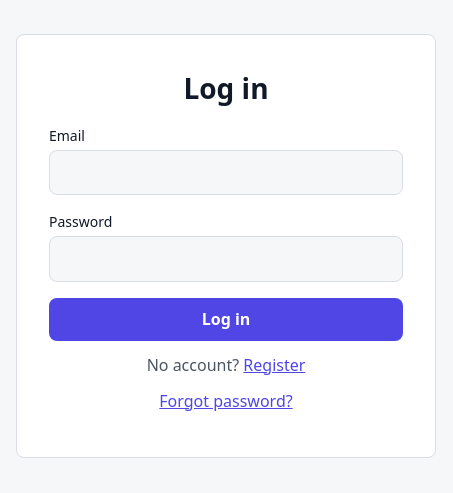
Test case: LoginPage › shows the backend error message on failure and stays on the page
This screenshot has width=453, height=493.
In the field labelled "Email": (226, 173) [49, 150, 403, 195], type "a@b.com"
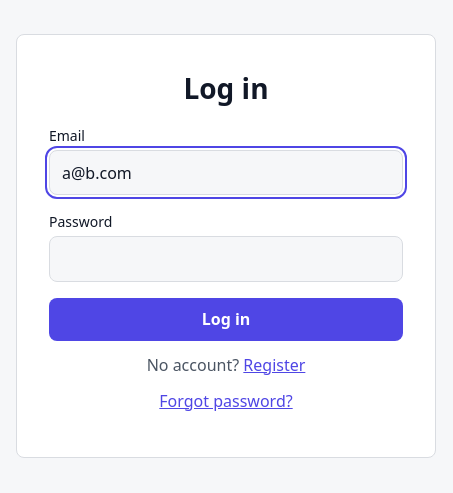
In the password field labelled "Password": (226, 259) [49, 236, 403, 282], type "password123"
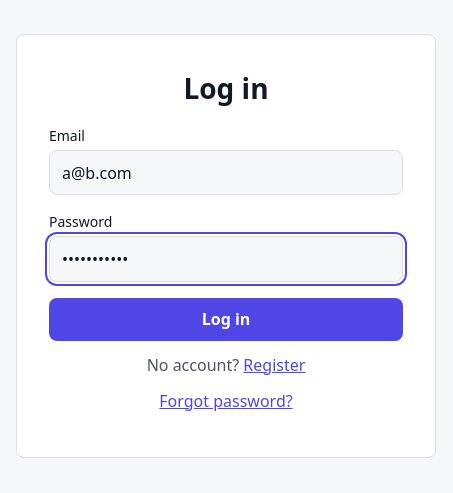
Click the button "Log in": (226, 319) [49, 298, 403, 341]
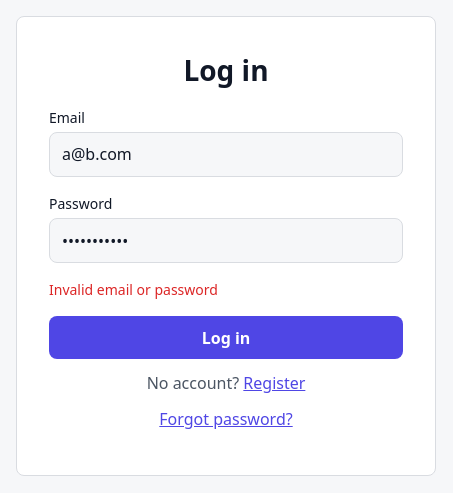
Check: the message reads "Invalid email or password", box [49, 280, 218, 299]
